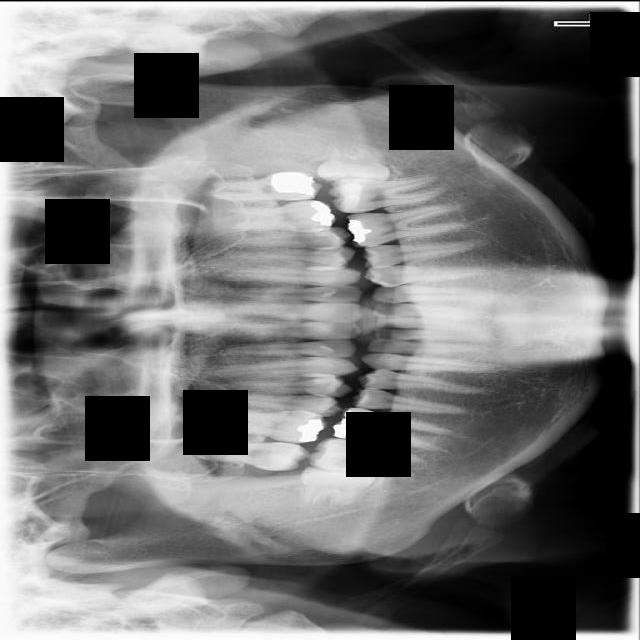52: (324, 169, 380, 222), (344, 204, 397, 252), (268, 406, 328, 447), (331, 403, 387, 445), (281, 196, 338, 234), (265, 167, 324, 203), (301, 224, 352, 250), (312, 283, 362, 302), (311, 338, 357, 358)
73: (572, 36, 582, 42)
BioHorizons Implant: (208, 170, 323, 200)
Biomet 3i Implant: (316, 143, 391, 186)
Blue Sky Bio Implant: (327, 175, 443, 214)
Caries: (196, 439, 309, 472)
Implant: (306, 435, 422, 477)
Keystone Dental Implant: (298, 462, 378, 508)
